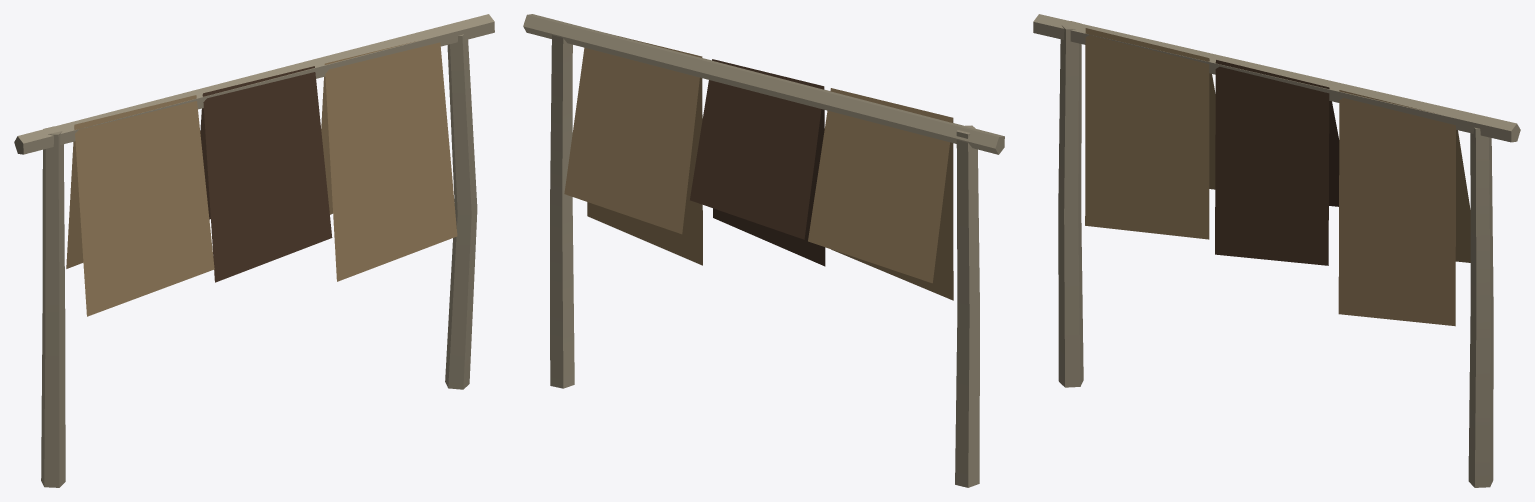
Rendered from HideRack.fbx.
3 views of the same model, side by side, from view 1: azimuth 30°, elevation 25°; view 2: azimuth 150°, elevation 25°; view 3: azimuth 330°, elevation 25° (orthographic).
Parts seen in each view (by area): view 1: HideRack; view 2: HideRack; view 3: HideRack.
Part boxes in pixels (bbox=[...]): HideRack: bbox=[14, 14, 494, 487]; HideRack: bbox=[523, 14, 1004, 487]; HideRack: bbox=[1033, 14, 1520, 487].
Size of the model in its own units: 2.1 by 1.54 by 0.2.
